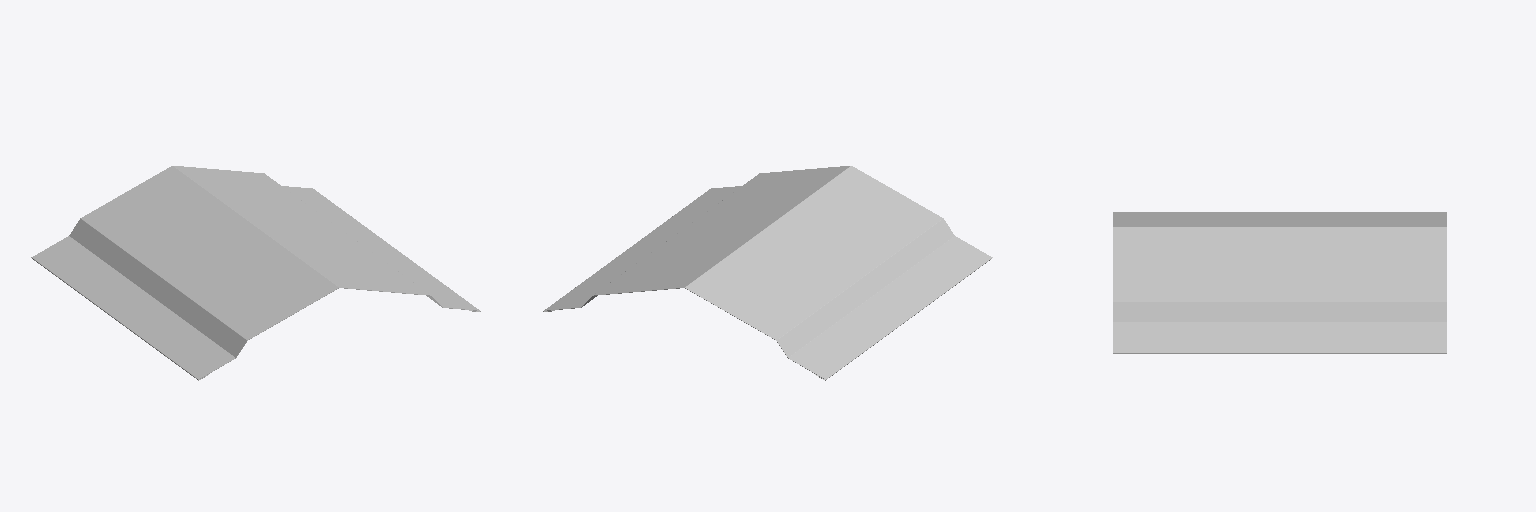
The model's file is rcp_v1.obj.
3 views of the same model, side by side, from view 1: azimuth 30°, elevation 25°; view 2: azimuth 150°, elevation 25°; view 3: azimuth 270°, elevation 25° (orthographic).
Visible parts, largest first — view 1: Body1; view 2: Body1; view 3: Body1.
Boxes of the visible parts, <box> form: Body1: <box>31,166,480,380</box>; Body1: <box>543,166,992,380</box>; Body1: <box>1113,212,1446,353</box>.
Size of the model in its own units: 298 by 59.09 by 305.